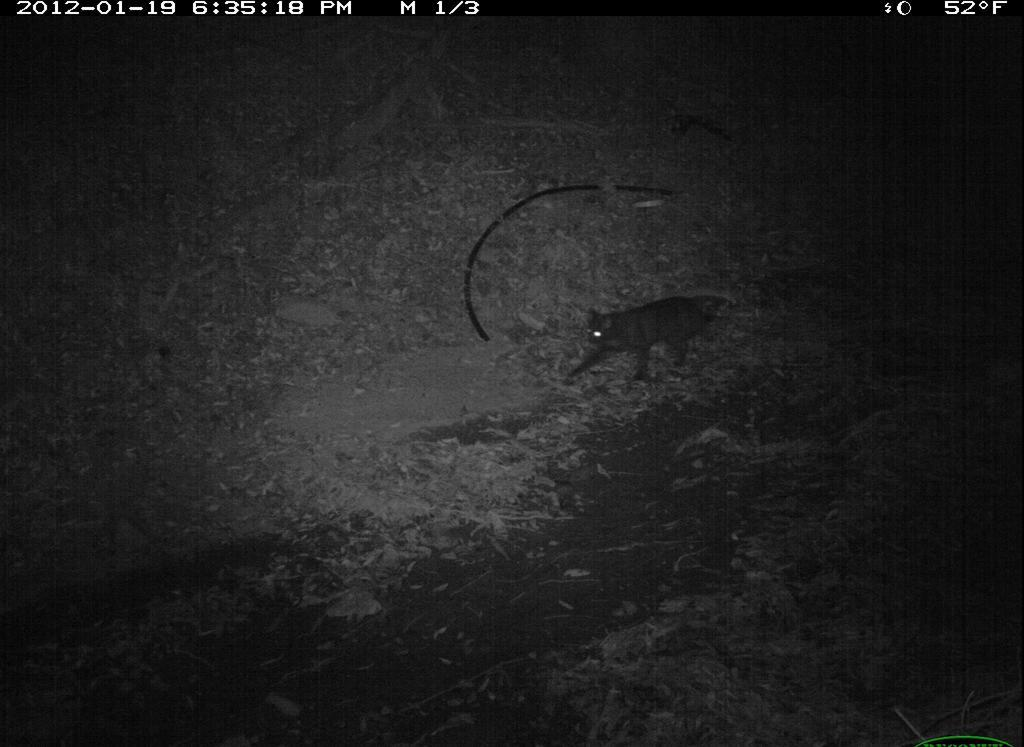cat: (550, 287, 742, 400)
